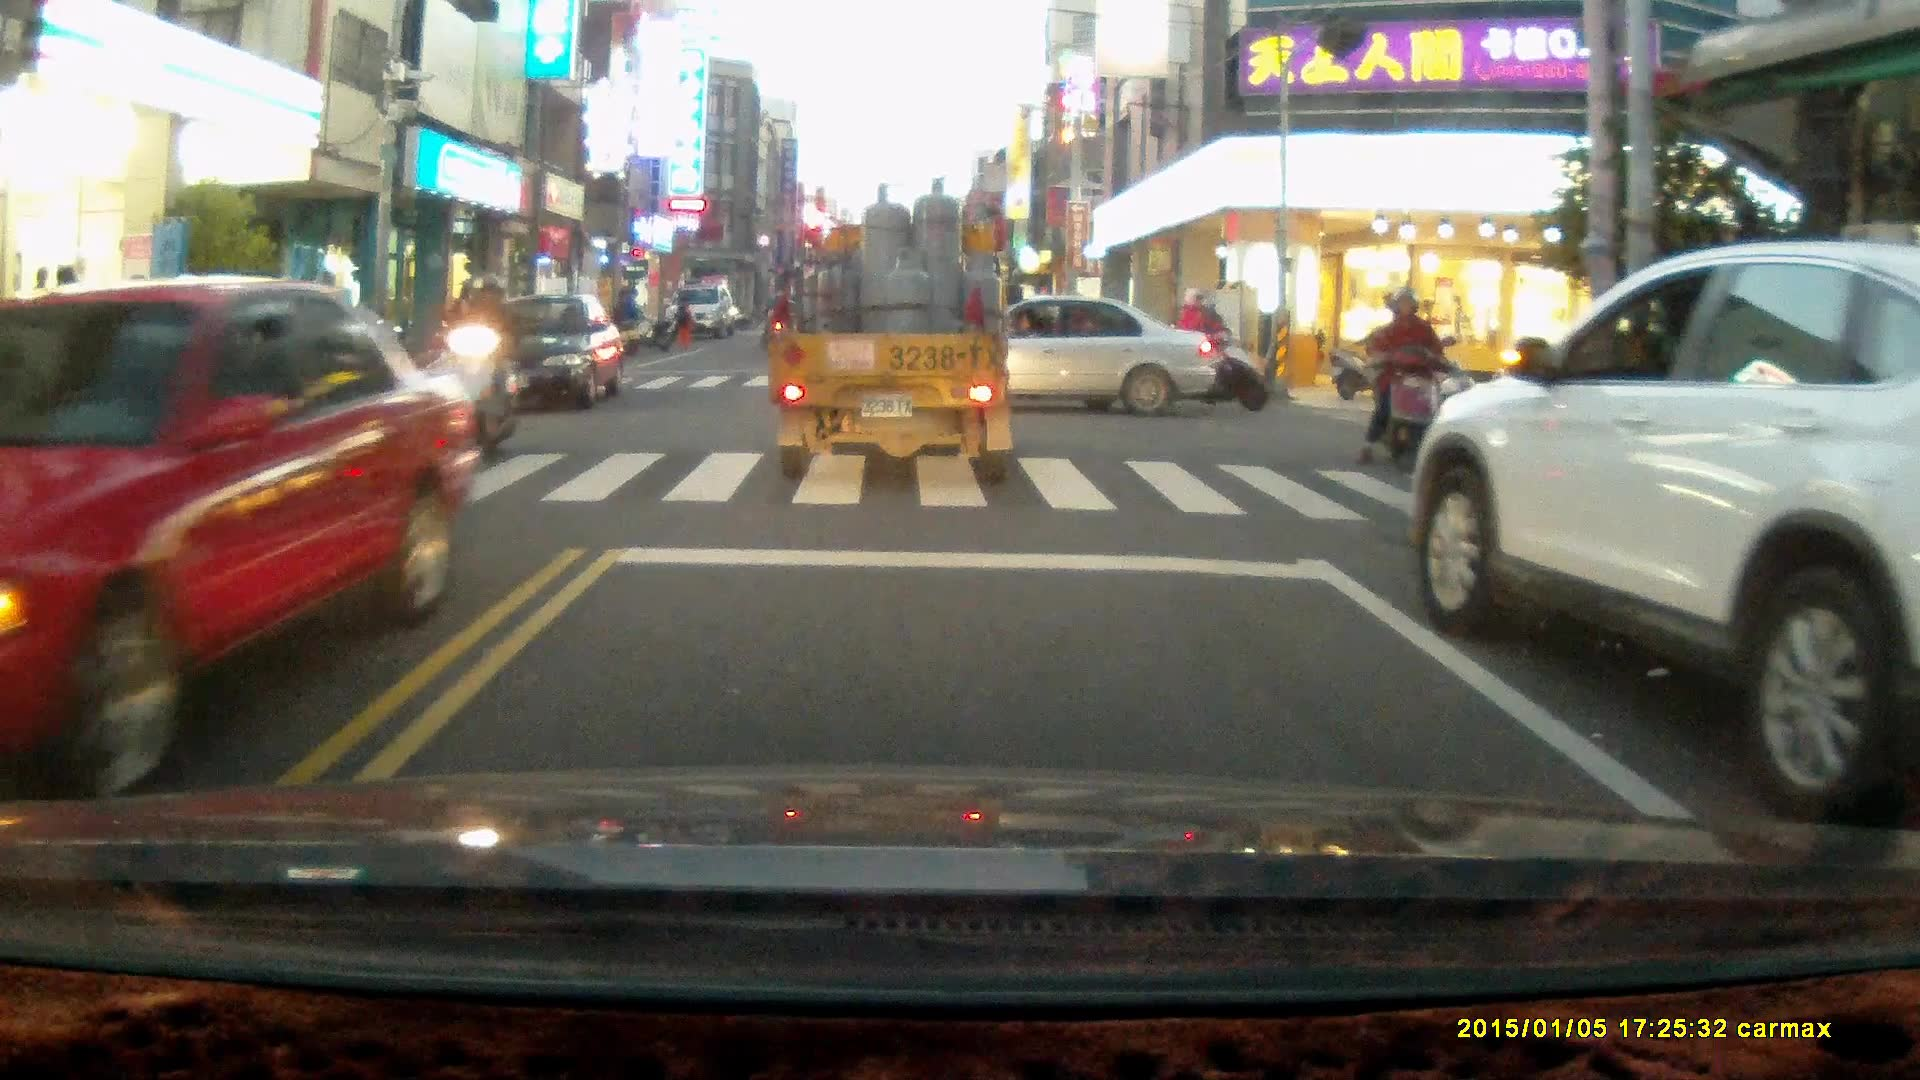pedestrian: (615, 284, 642, 347)
rider: (1351, 284, 1462, 481), (436, 274, 522, 472), (1147, 283, 1270, 409)
vehicle: (1405, 238, 1920, 824), (1, 275, 485, 794), (771, 179, 1023, 481), (863, 291, 1222, 417), (465, 287, 629, 418), (665, 283, 735, 336)
